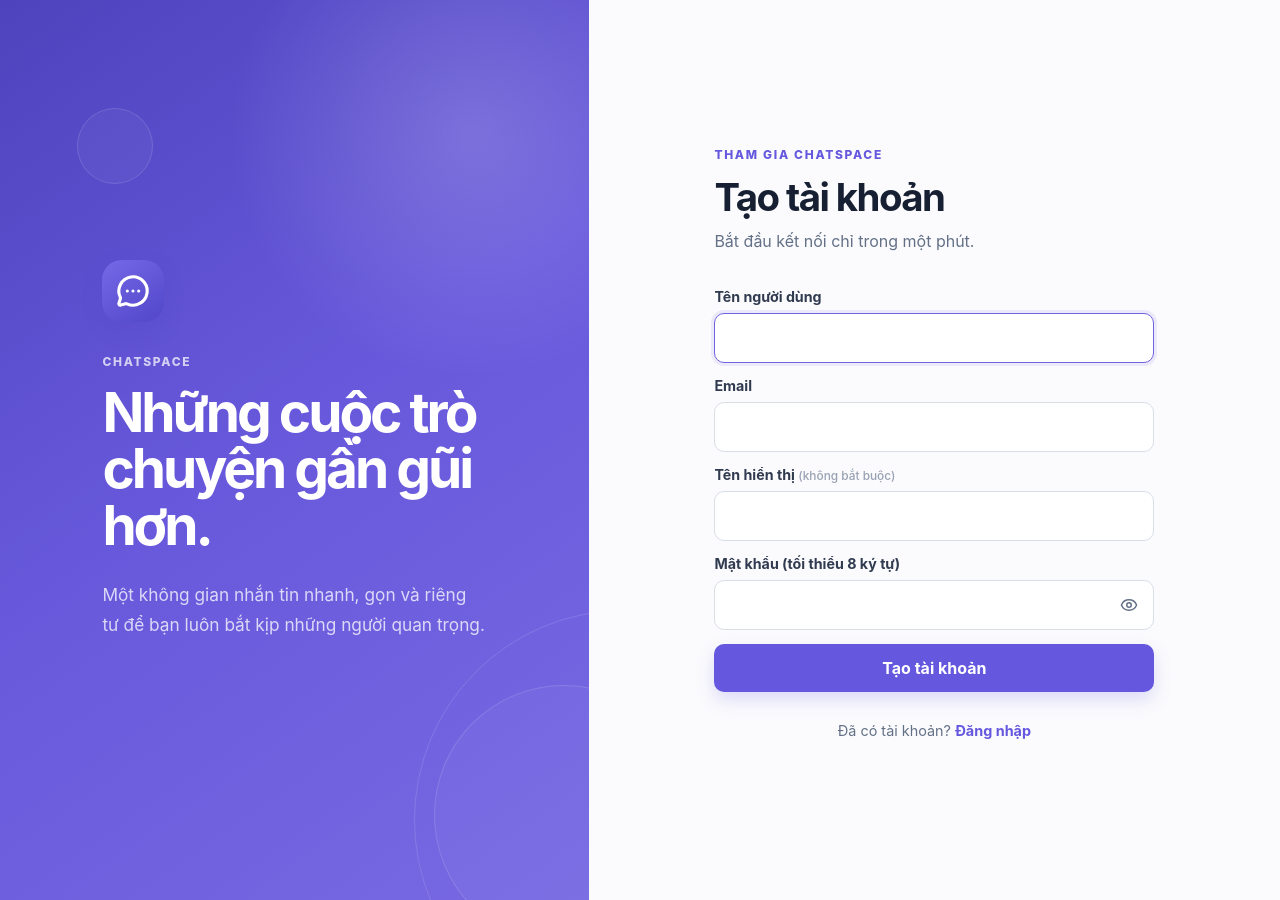
Test: RegisterPage › says verification email was not sent when the API confirms email is disabled
Type "thanh_user" into the field labelled "Tên người dùng" at (934, 338), box [714,313,1154,363]
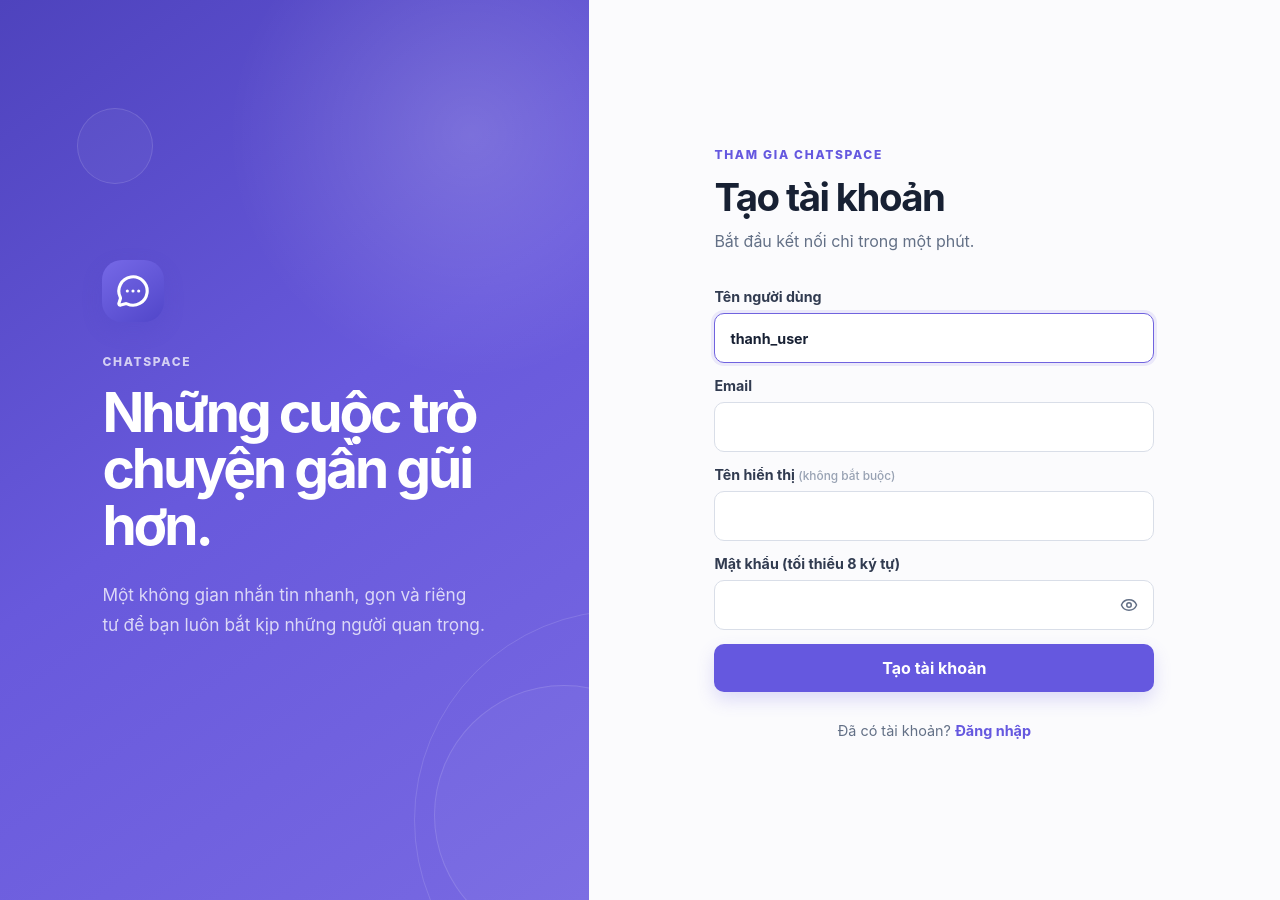
Type "thanh@example.com" into the field labelled "Email" at (934, 427), box [714,402,1154,452]
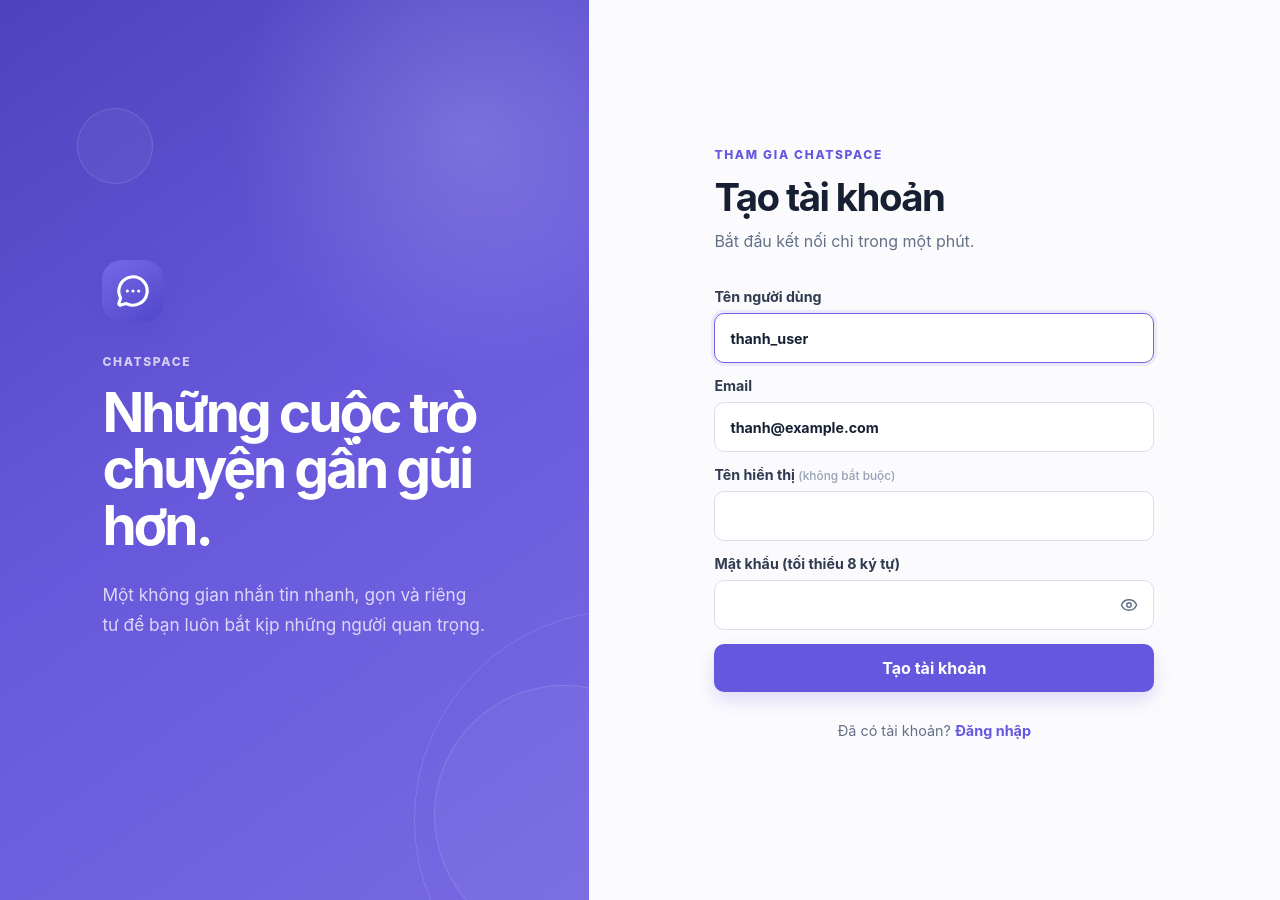
Type "Password123" into the password field labelled "Mật khẩu (tối thiểu 8 ký tự)" at (934, 605), box [714,580,1154,630]
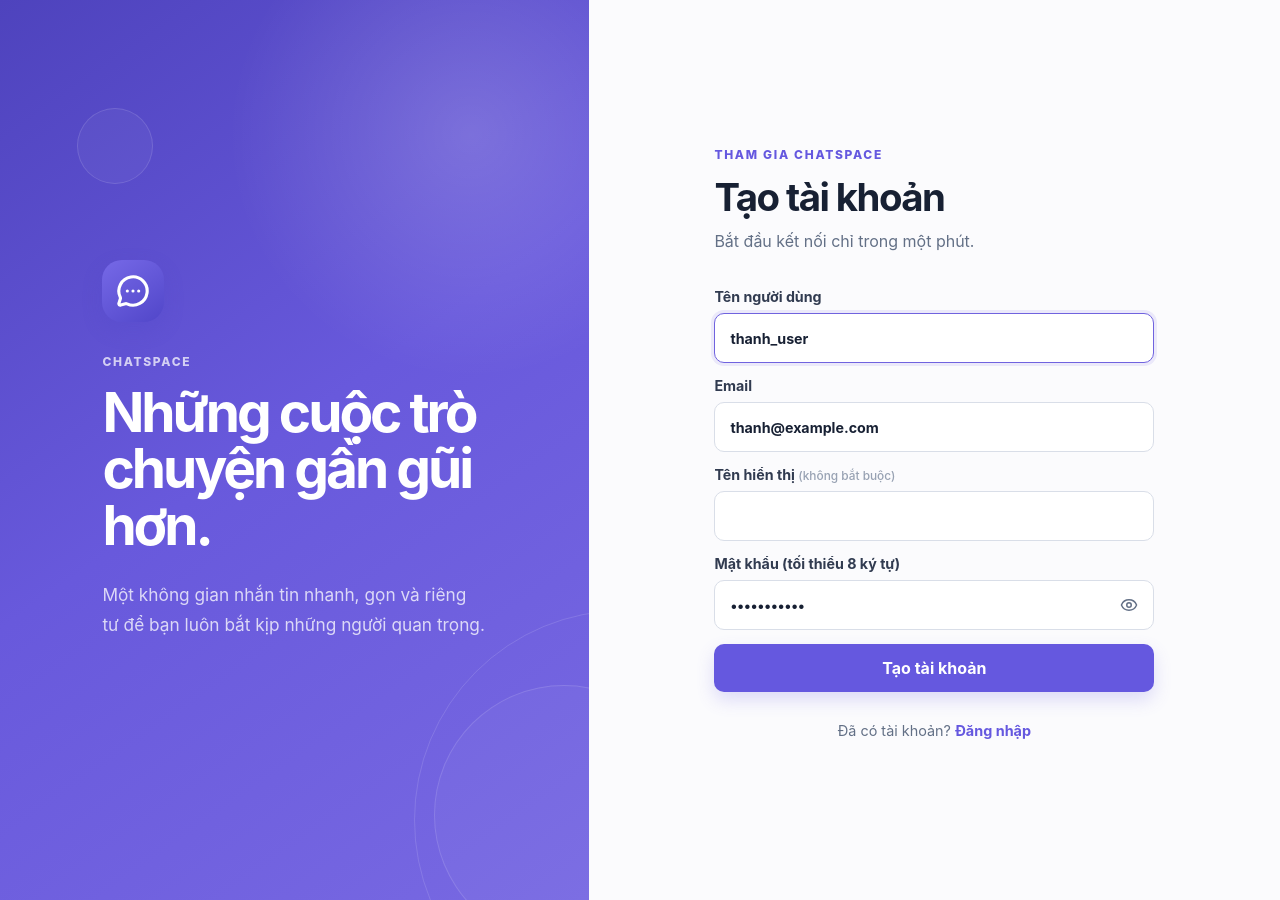
Click the button "Tạo tài khoản" at (934, 668), box [714,644,1154,692]
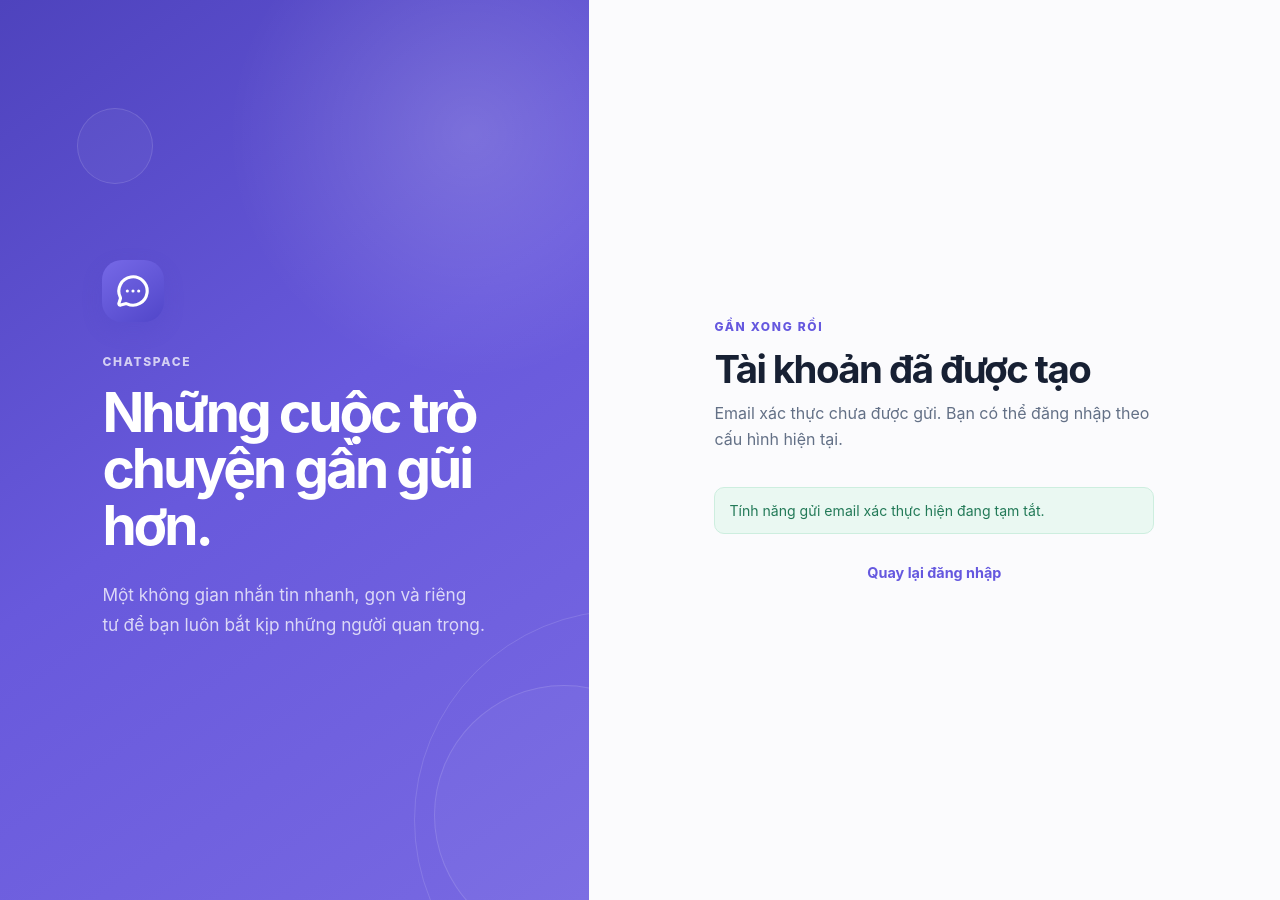
Now the heading "Tài khoản đã được tạo" is shown, box [714,346,1154,392]
Now the message shows "đang tạm tắt", box [729,502,1045,518]
Now the text "Email xác thực chưa được gửi. Bạn có thể đăng nhập theo cấu hình hiện tại." is shown, box [714,401,1154,452]
